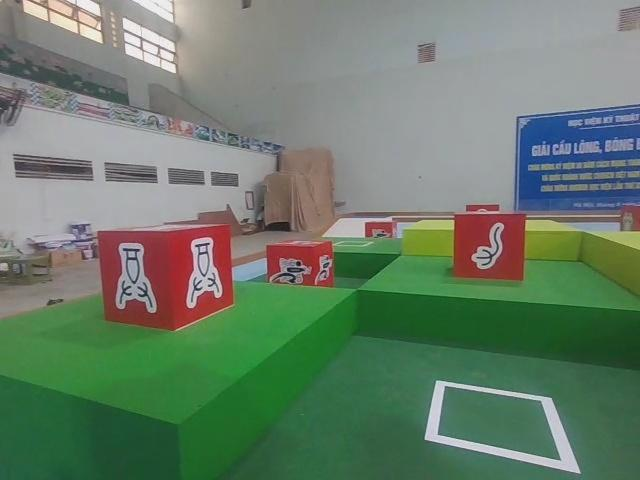R1: (265, 236, 335, 298)
R2 Real: (96, 222, 238, 332), (450, 209, 528, 283)
